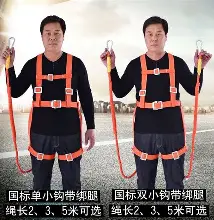safety belt: (132, 52, 189, 163), (27, 52, 85, 159)
